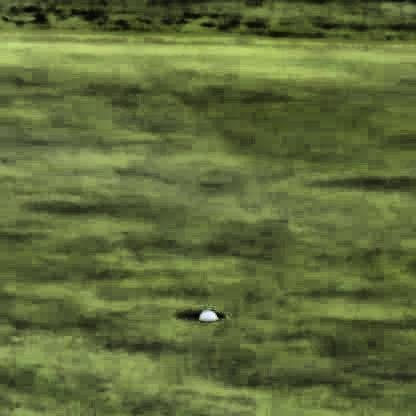golfball: (198, 314, 216, 324)
